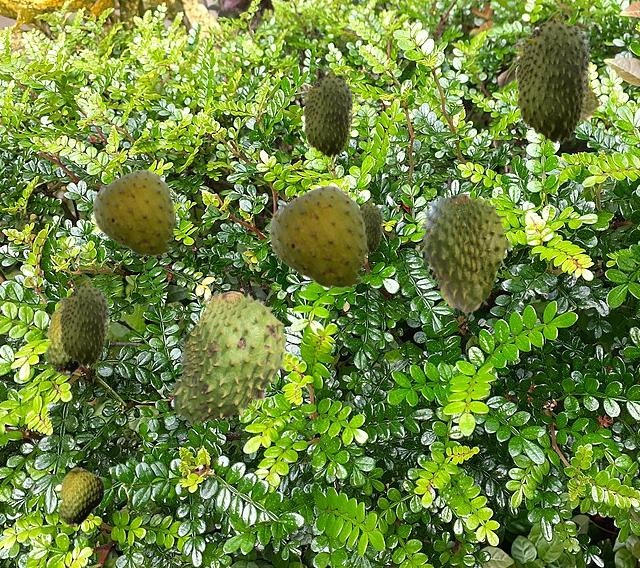guyabano: (167, 291, 286, 425), (416, 193, 515, 315), (512, 9, 592, 143), (267, 185, 368, 290), (91, 169, 176, 257), (57, 278, 110, 366), (301, 69, 354, 157), (57, 467, 104, 527), (44, 304, 80, 376), (581, 52, 599, 122), (361, 199, 383, 253)
